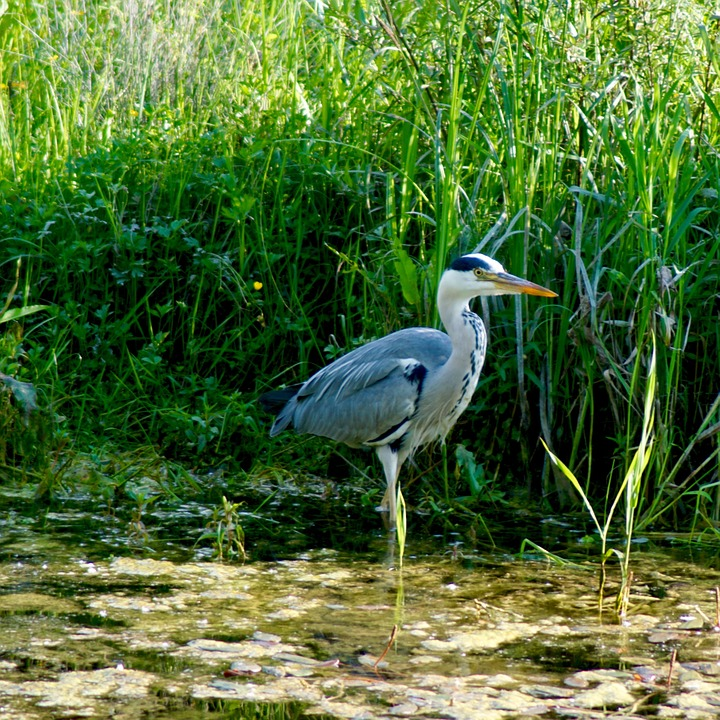heron: (271, 247, 556, 653)
